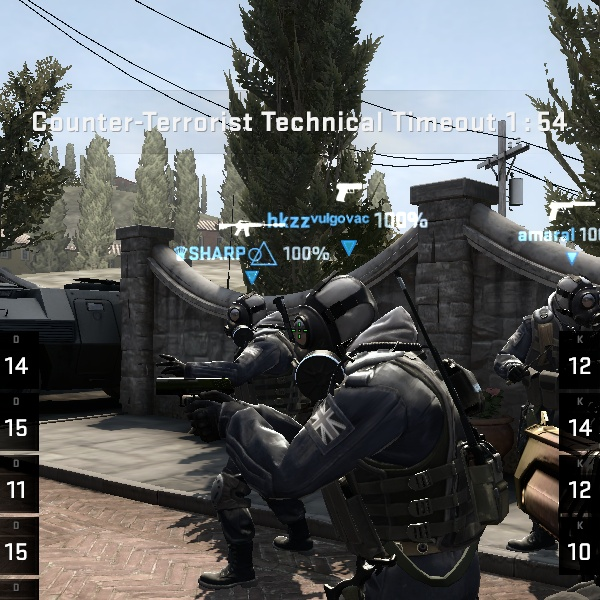ct_head: (536, 269, 598, 331)
